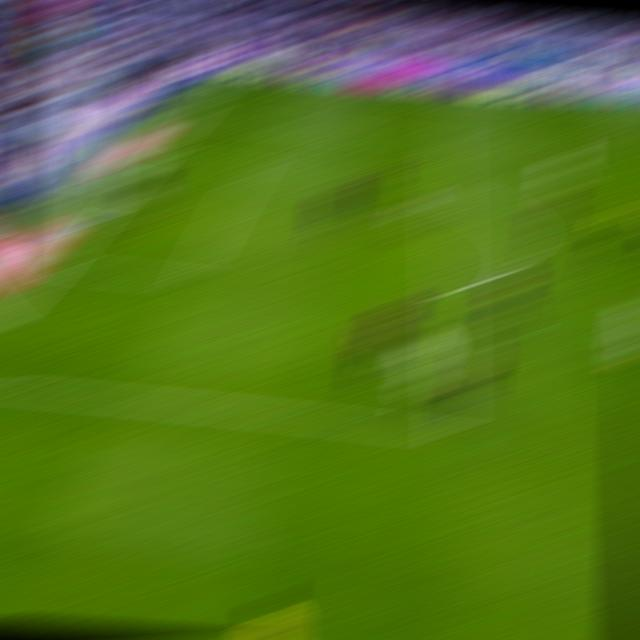bigarea_bottom_inner: (173, 268, 205, 288)
bigarea_top_outter: (182, 112, 212, 119)
corner: (216, 75, 247, 81)
smallarea_bottom_outter: (46, 257, 76, 274)
smallarea_top_inner: (237, 163, 268, 174)
smallarea_top_outter: (144, 152, 174, 161)
